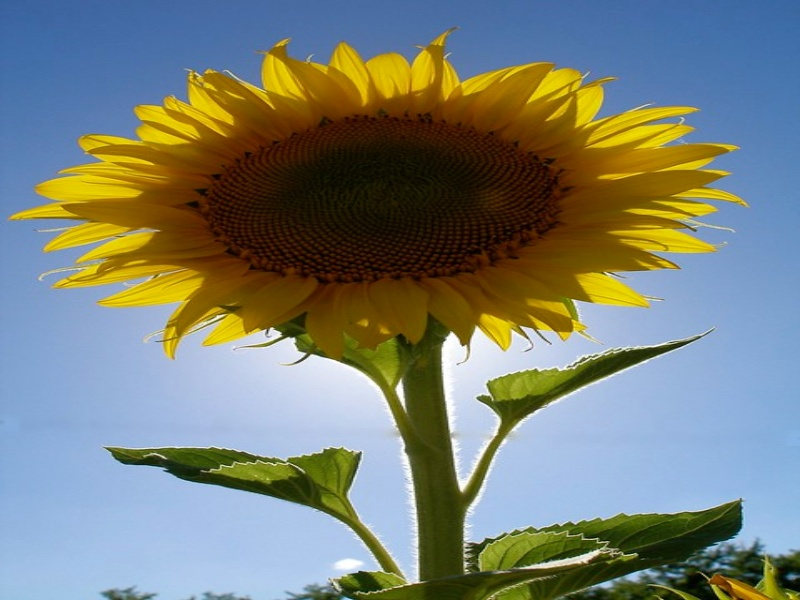sunflower: (15, 33, 766, 376)
